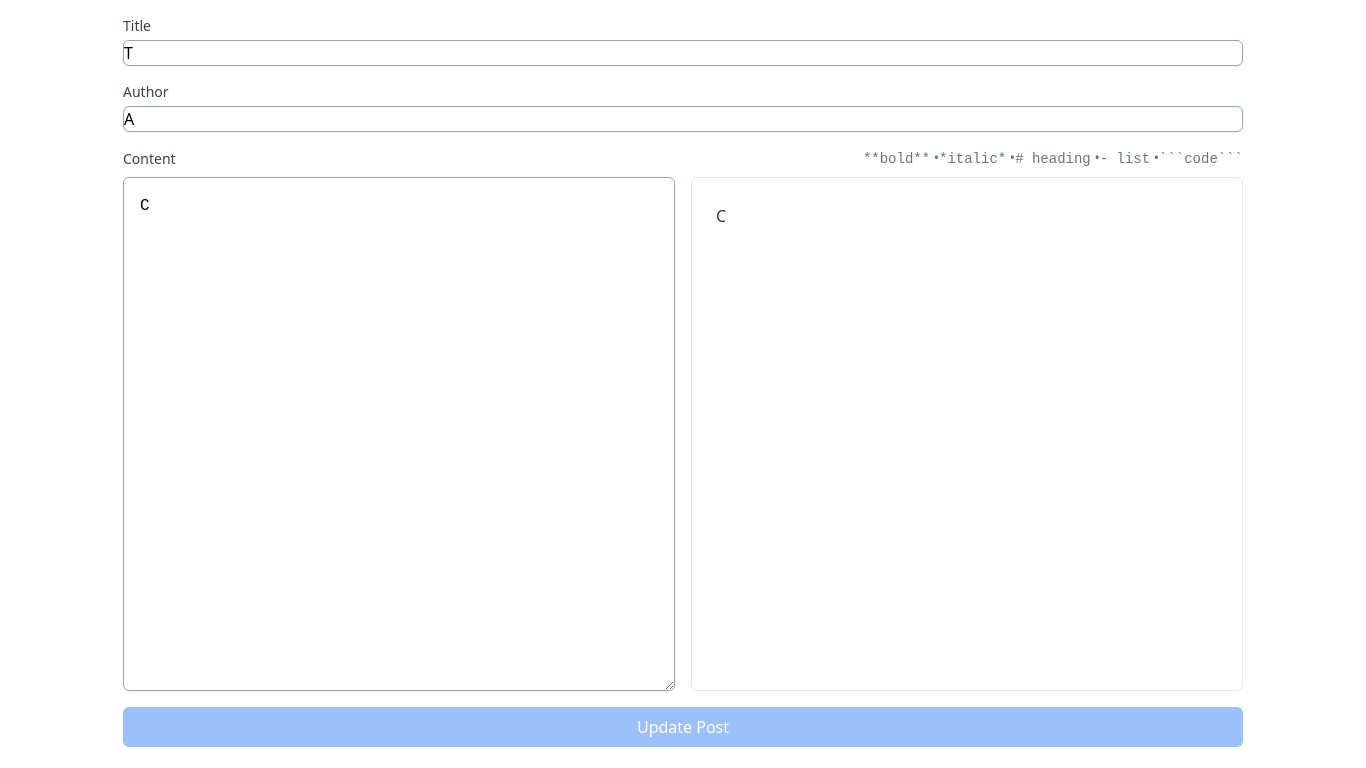
it: PostForm › enables submit button when changes are made
Replace the text in the field labelled "Title" with "New Title". click: (683, 53)
box: [123,40,1243,66]
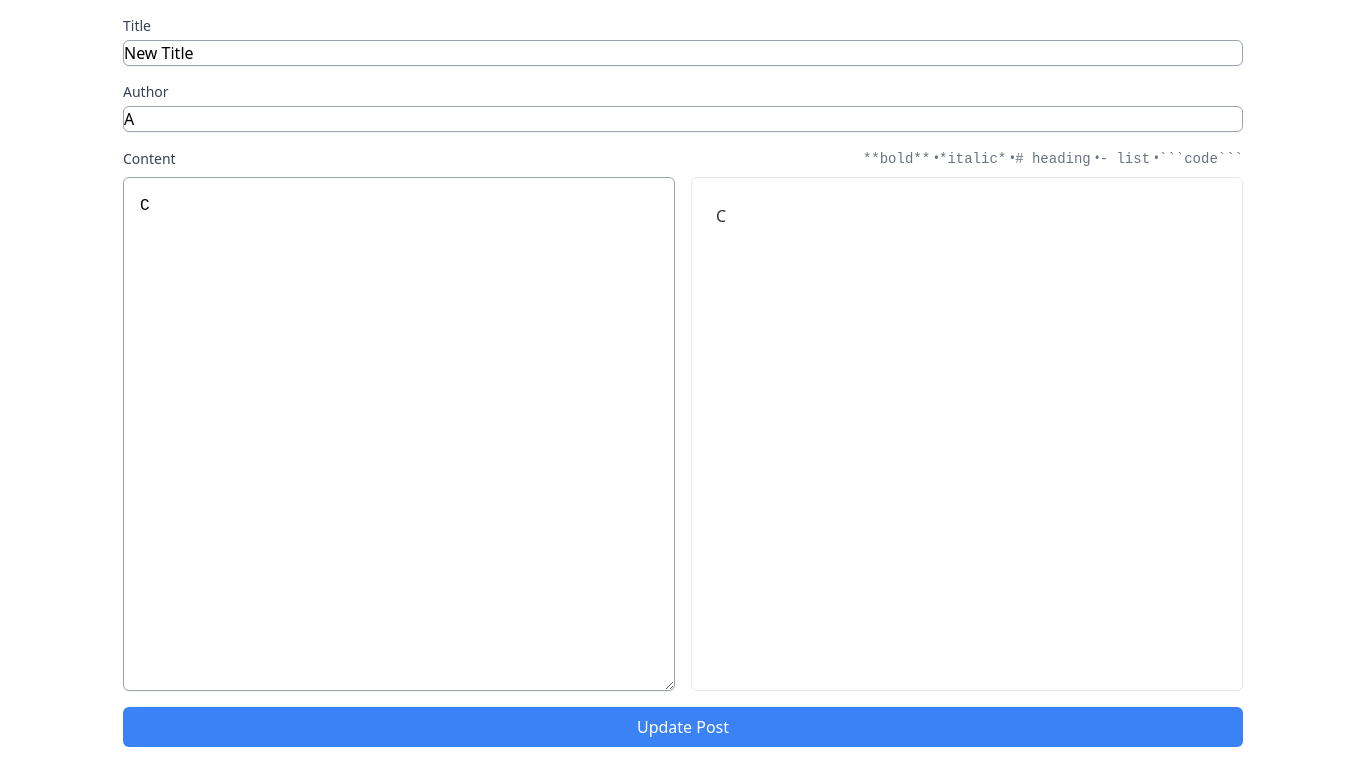
Expected: the button "Update Post" is enabled, [123,707,1243,747]
